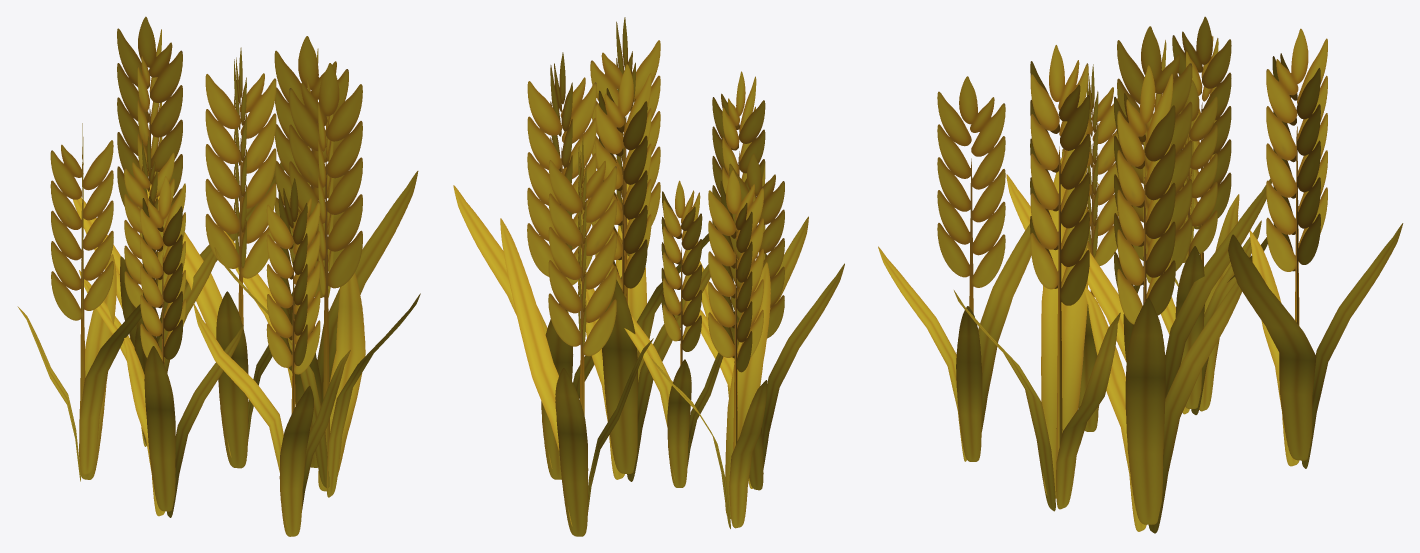
File: Grain.fbx
The picture shows the model from 3 angles, left to right: view 1: azimuth 30°, elevation 25°; view 2: azimuth 150°, elevation 25°; view 3: azimuth 270°, elevation 25°; orthographic projection. The views are drawn at different scales.
Visible parts, largest first — view 1: Wheat_Plants_0; view 2: Wheat_Plants_0; view 3: Wheat_Plants_0.
Part boxes in pixels (x1,y1,x2,y2): Wheat_Plants_0: (17, 16, 420, 536); Wheat_Plants_0: (453, 17, 844, 536); Wheat_Plants_0: (878, 16, 1403, 533).
Bounding box in the file's own units: 157 × 184 × 183.
